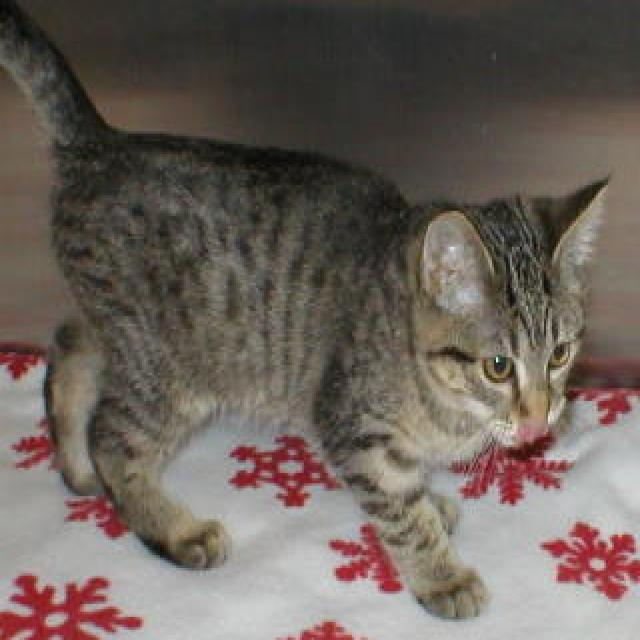Cats: (0, 0, 610, 619)
